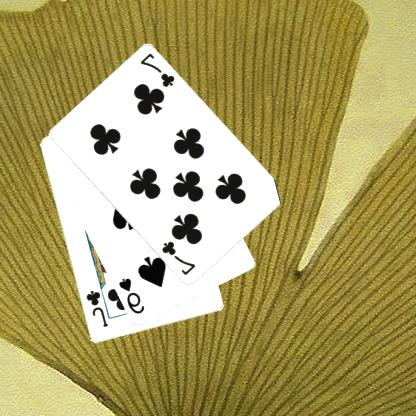6S: (118, 275, 147, 316)
7C: (139, 50, 178, 89), (161, 238, 198, 277)
JC: (85, 288, 111, 329)
